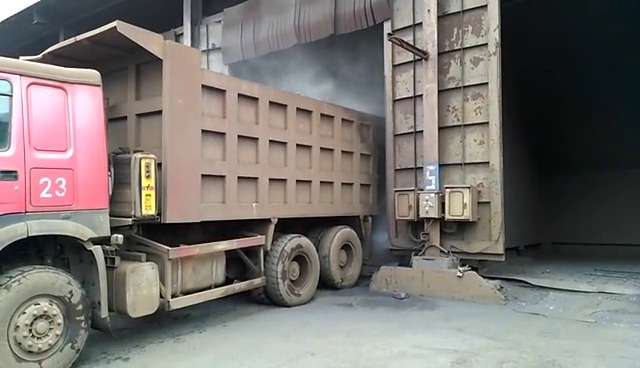dust: (208, 9, 392, 116), (371, 220, 384, 248)
truck: (0, 22, 385, 366)
